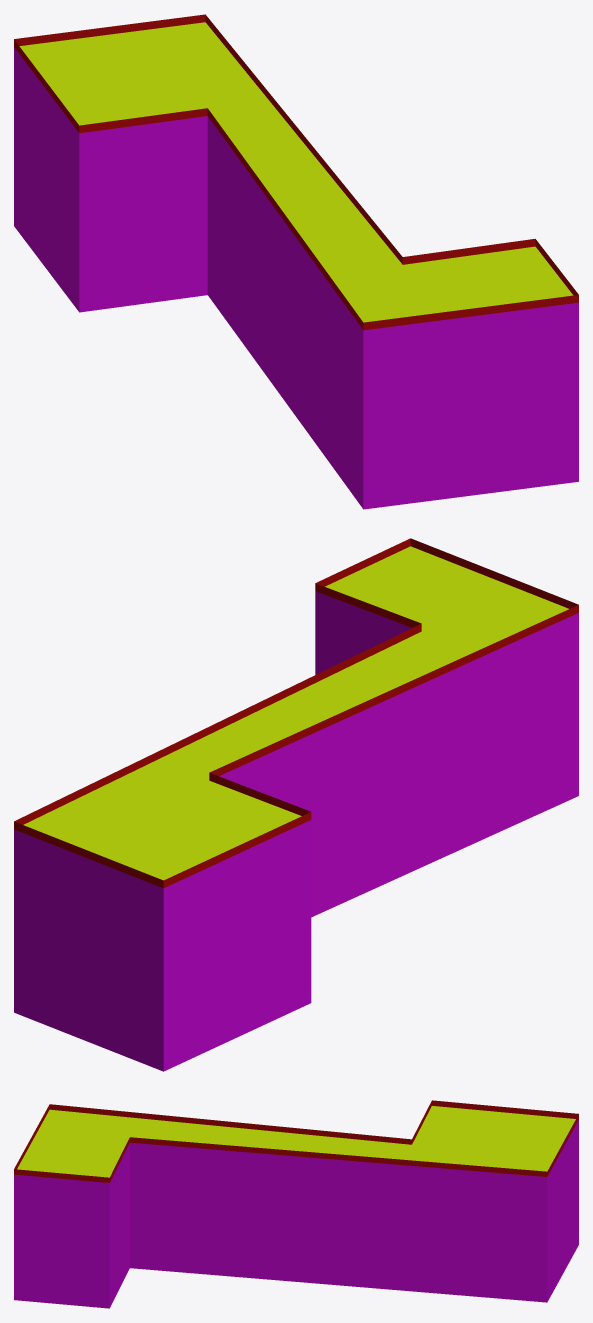
3 renders of one model, top to bottom at view 1: azimuth 30°, elevation 25°; view 2: azimuth 150°, elevation 25°; view 3: azimuth 270°, elevation 25°, orthographic. The views are drawn at different scales.
Visible parts, largest first — view 1: sc_146; view 2: sc_146; view 3: sc_146.
Part boxes in pixels (x1=…): sc_146: x1=14, y1=14, x2=578, y2=509; sc_146: x1=14, y1=538, x2=578, y2=1071; sc_146: x1=14, y1=1100, x2=578, y2=1308.
Size of the model in its own units: 10.64 by 8.41 by 32.87.
